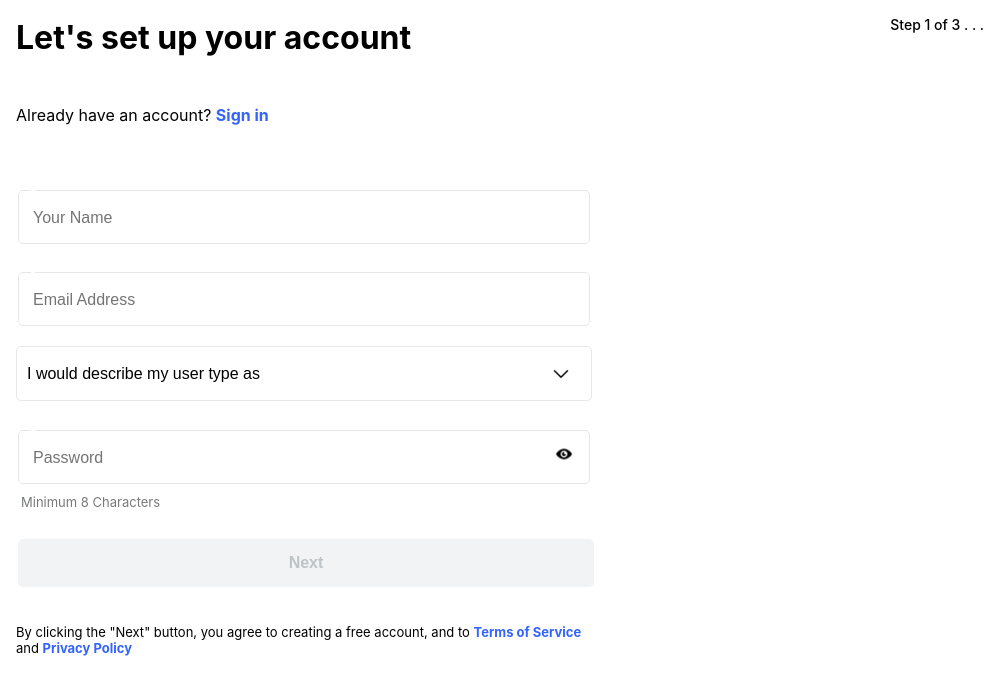
Test: Form › when submit button is clicked › with valid input values, should set current step to 2
Type "thisisvalidpassword" into the password field with test id "Password" at point(279, 458), box [31,448,526,468]
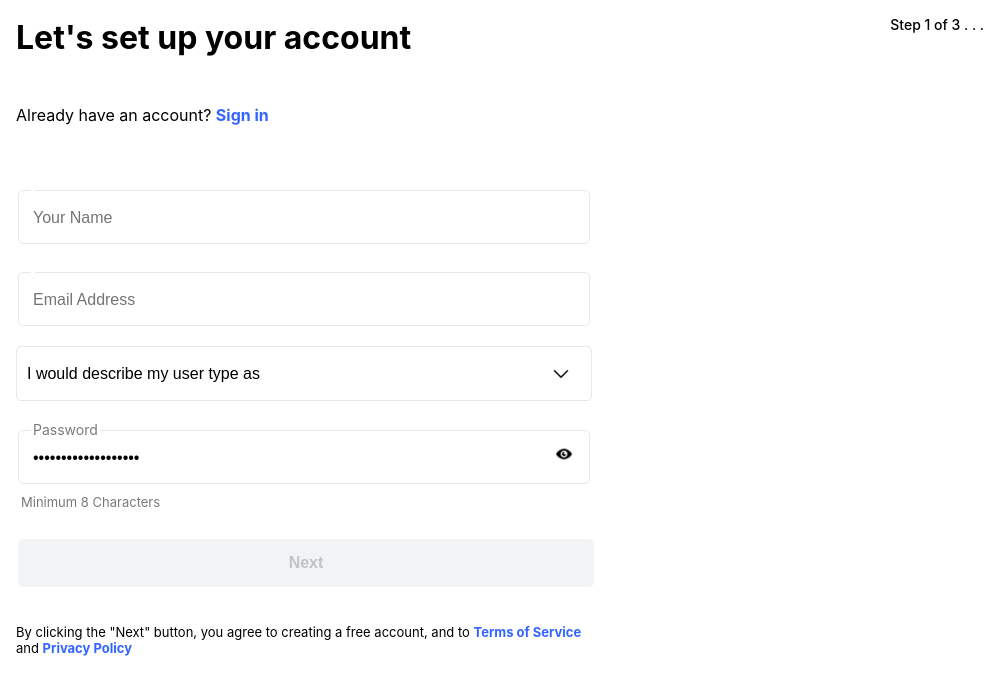
Type "myemail@gmail.com" into the field with test id "Email Address" at point(279, 300), box [31,290,526,310]
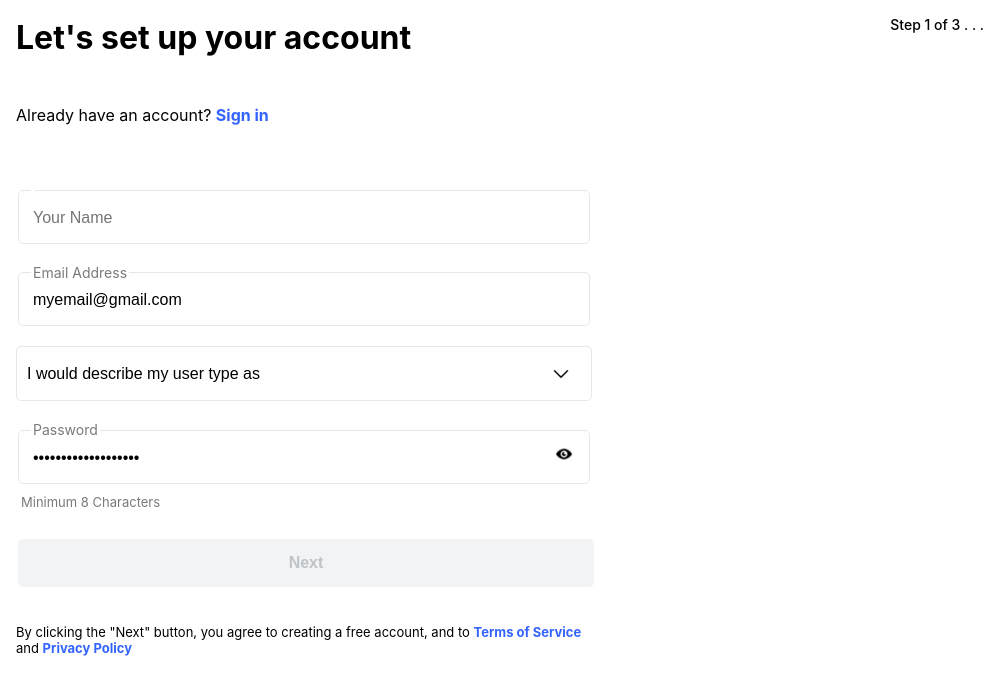
Type "Test Name" into the field with test id "Your Name" at point(279, 218), box [31,208,526,228]
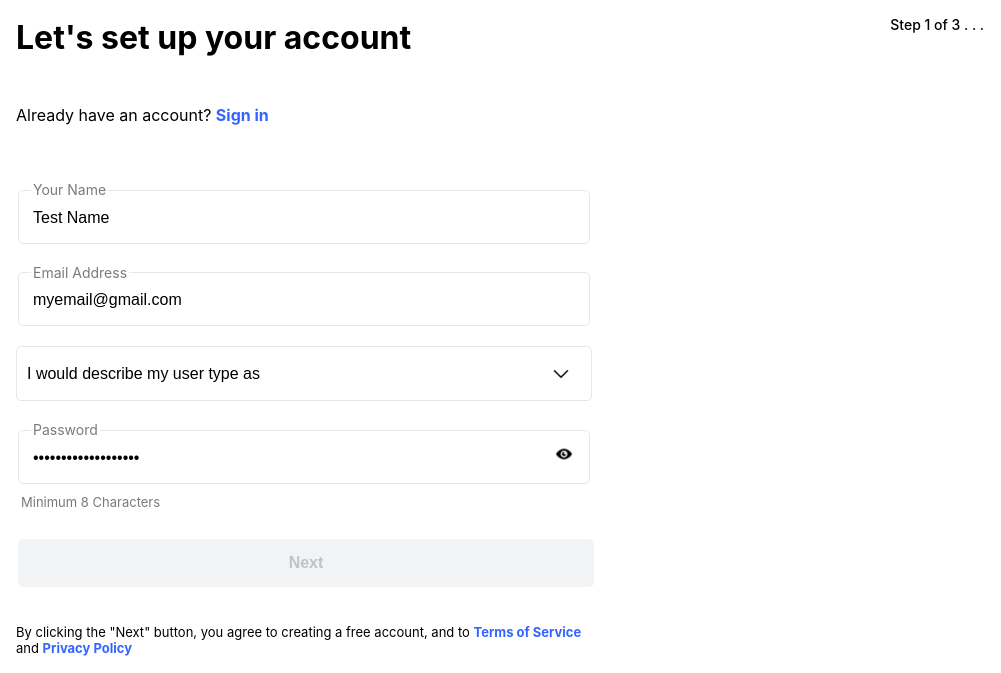
Select "Developer" in the dropdown with test id "form-select" at point(304, 374), box [16,346,592,401]
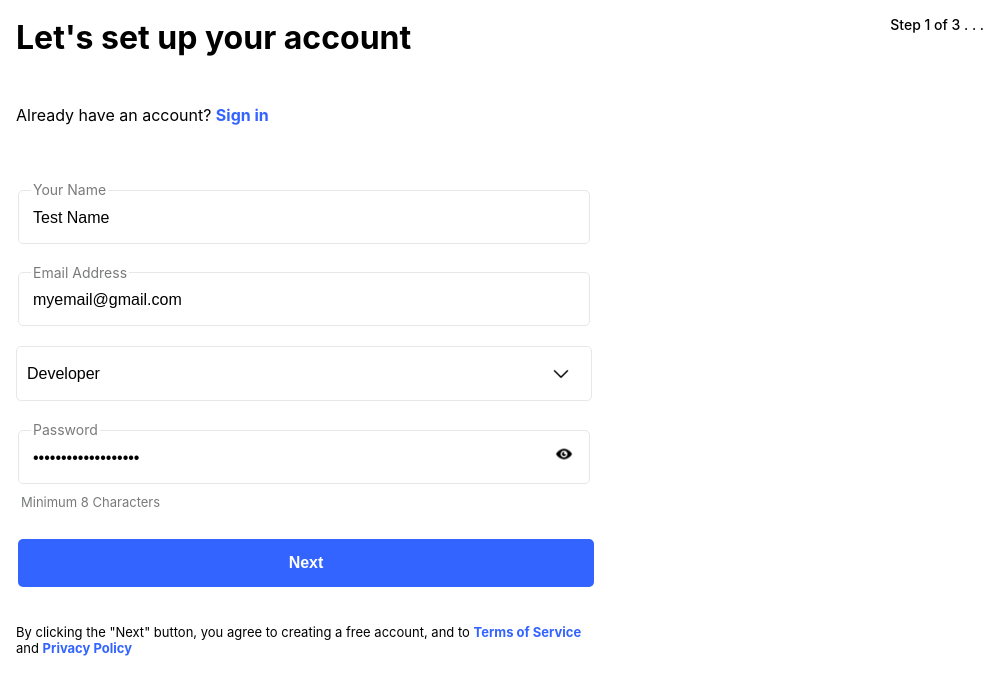
Click the button "Next" at point(306, 563), box [18,539,594,587]
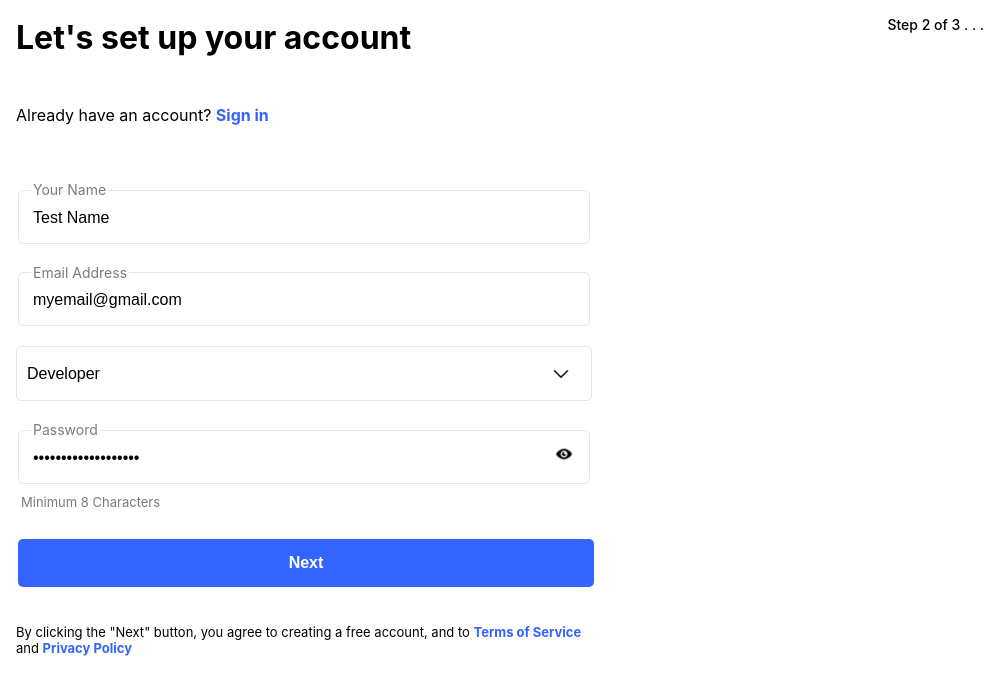
Result: the text with test id "currentStep" reads "Step 2 of 3 . . ." at [887,16,984,33]
